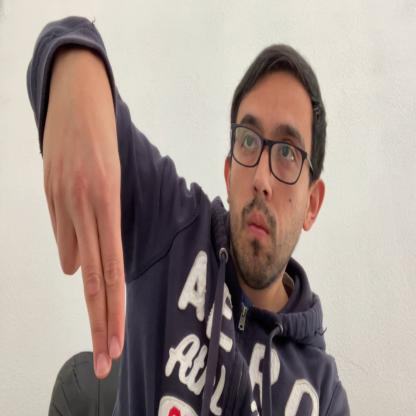N: (40, 68, 125, 380)
